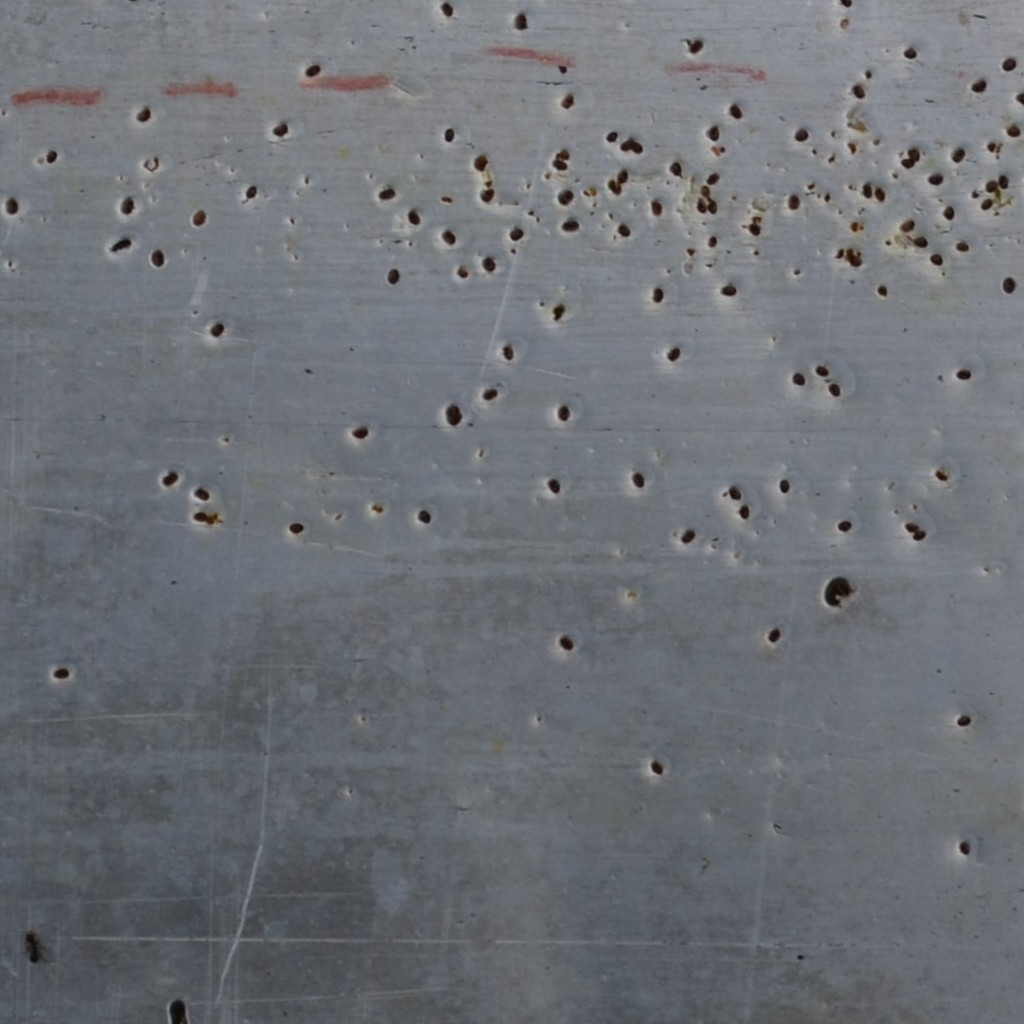varroa: (443, 403, 463, 431), (206, 317, 228, 340), (404, 204, 423, 228), (932, 466, 953, 487), (47, 665, 69, 685), (548, 301, 568, 323), (554, 401, 574, 423), (998, 274, 1017, 297), (791, 125, 811, 146), (543, 477, 564, 497), (189, 207, 208, 229), (677, 526, 700, 544), (1002, 120, 1022, 140), (385, 264, 401, 289), (628, 469, 648, 489), (554, 187, 575, 206), (480, 253, 498, 275), (513, 9, 529, 33), (947, 146, 967, 165), (148, 247, 167, 267), (118, 196, 137, 216), (134, 104, 153, 124), (376, 185, 396, 204), (954, 711, 972, 732), (192, 485, 213, 503), (764, 624, 782, 645), (663, 345, 684, 363), (789, 369, 807, 390), (439, 227, 457, 248), (499, 340, 515, 363), (999, 54, 1018, 73), (302, 61, 321, 80), (415, 508, 434, 527), (472, 153, 491, 172), (615, 222, 635, 240), (926, 169, 943, 190), (557, 633, 574, 654), (929, 250, 945, 272), (350, 426, 372, 442), (647, 758, 665, 777), (270, 120, 288, 139), (4, 196, 22, 215), (478, 184, 496, 203), (968, 77, 988, 94), (649, 198, 666, 218), (559, 217, 580, 233), (955, 365, 973, 383), (956, 836, 973, 855), (479, 386, 498, 403), (717, 284, 740, 298), (725, 484, 745, 500), (506, 226, 527, 241), (690, 35, 704, 57), (901, 46, 918, 64), (911, 233, 929, 250), (786, 192, 803, 210), (705, 124, 722, 142), (649, 285, 666, 303), (850, 82, 866, 101), (737, 502, 753, 521), (835, 519, 855, 534), (941, 204, 958, 221), (954, 240, 973, 255), (286, 520, 305, 535), (244, 184, 259, 203), (549, 158, 568, 173), (897, 219, 917, 233), (979, 196, 995, 213), (827, 381, 843, 398), (727, 103, 743, 120), (747, 221, 763, 238), (559, 92, 576, 108), (812, 363, 829, 379), (777, 476, 793, 493), (908, 144, 922, 163), (875, 281, 889, 300), (441, 124, 455, 143), (159, 471, 175, 487), (607, 180, 623, 196), (439, 1, 454, 18), (1013, 87, 1023, 111), (900, 157, 916, 172), (902, 519, 919, 533), (45, 147, 59, 164), (669, 160, 683, 177), (615, 168, 629, 185), (873, 185, 886, 203), (707, 230, 719, 249), (706, 170, 721, 185), (629, 139, 644, 154), (861, 182, 874, 199), (912, 528, 927, 542), (556, 147, 571, 161), (191, 509, 207, 522), (997, 172, 1009, 189), (619, 139, 633, 153), (986, 139, 1000, 152), (985, 179, 998, 193), (605, 129, 618, 143), (839, 1, 853, 11)
